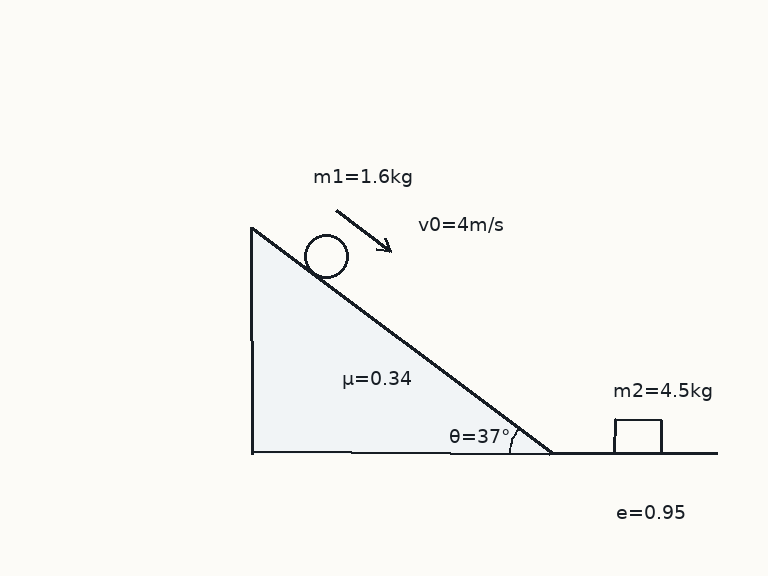ball: (302, 232, 350, 280)
block: (613, 417, 663, 455)
ramp: (249, 226, 552, 455)
